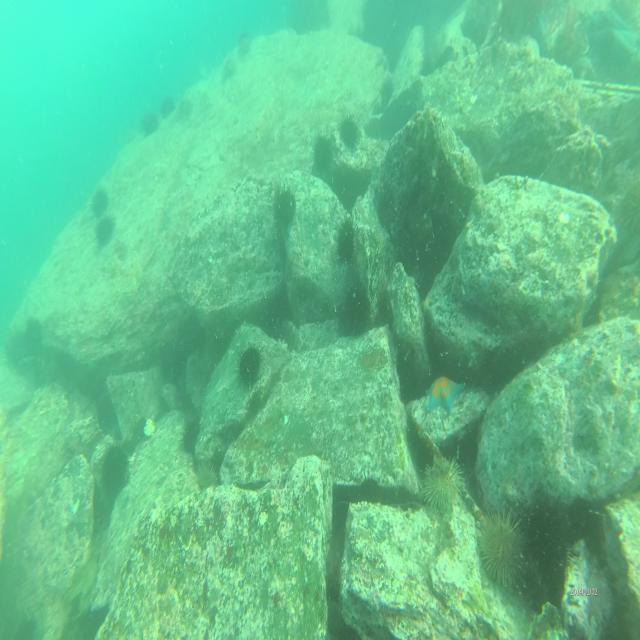echinus: (519, 482, 577, 584), (479, 504, 527, 586), (420, 453, 464, 510), (98, 442, 131, 497), (331, 211, 361, 267), (236, 341, 263, 393), (192, 458, 223, 499), (310, 126, 336, 174), (274, 185, 300, 231), (337, 111, 362, 158), (23, 315, 45, 350), (92, 218, 114, 250), (88, 185, 108, 219), (220, 53, 238, 82), (235, 31, 253, 58), (139, 110, 157, 137), (158, 93, 175, 116)
starfish: (424, 368, 468, 416)
